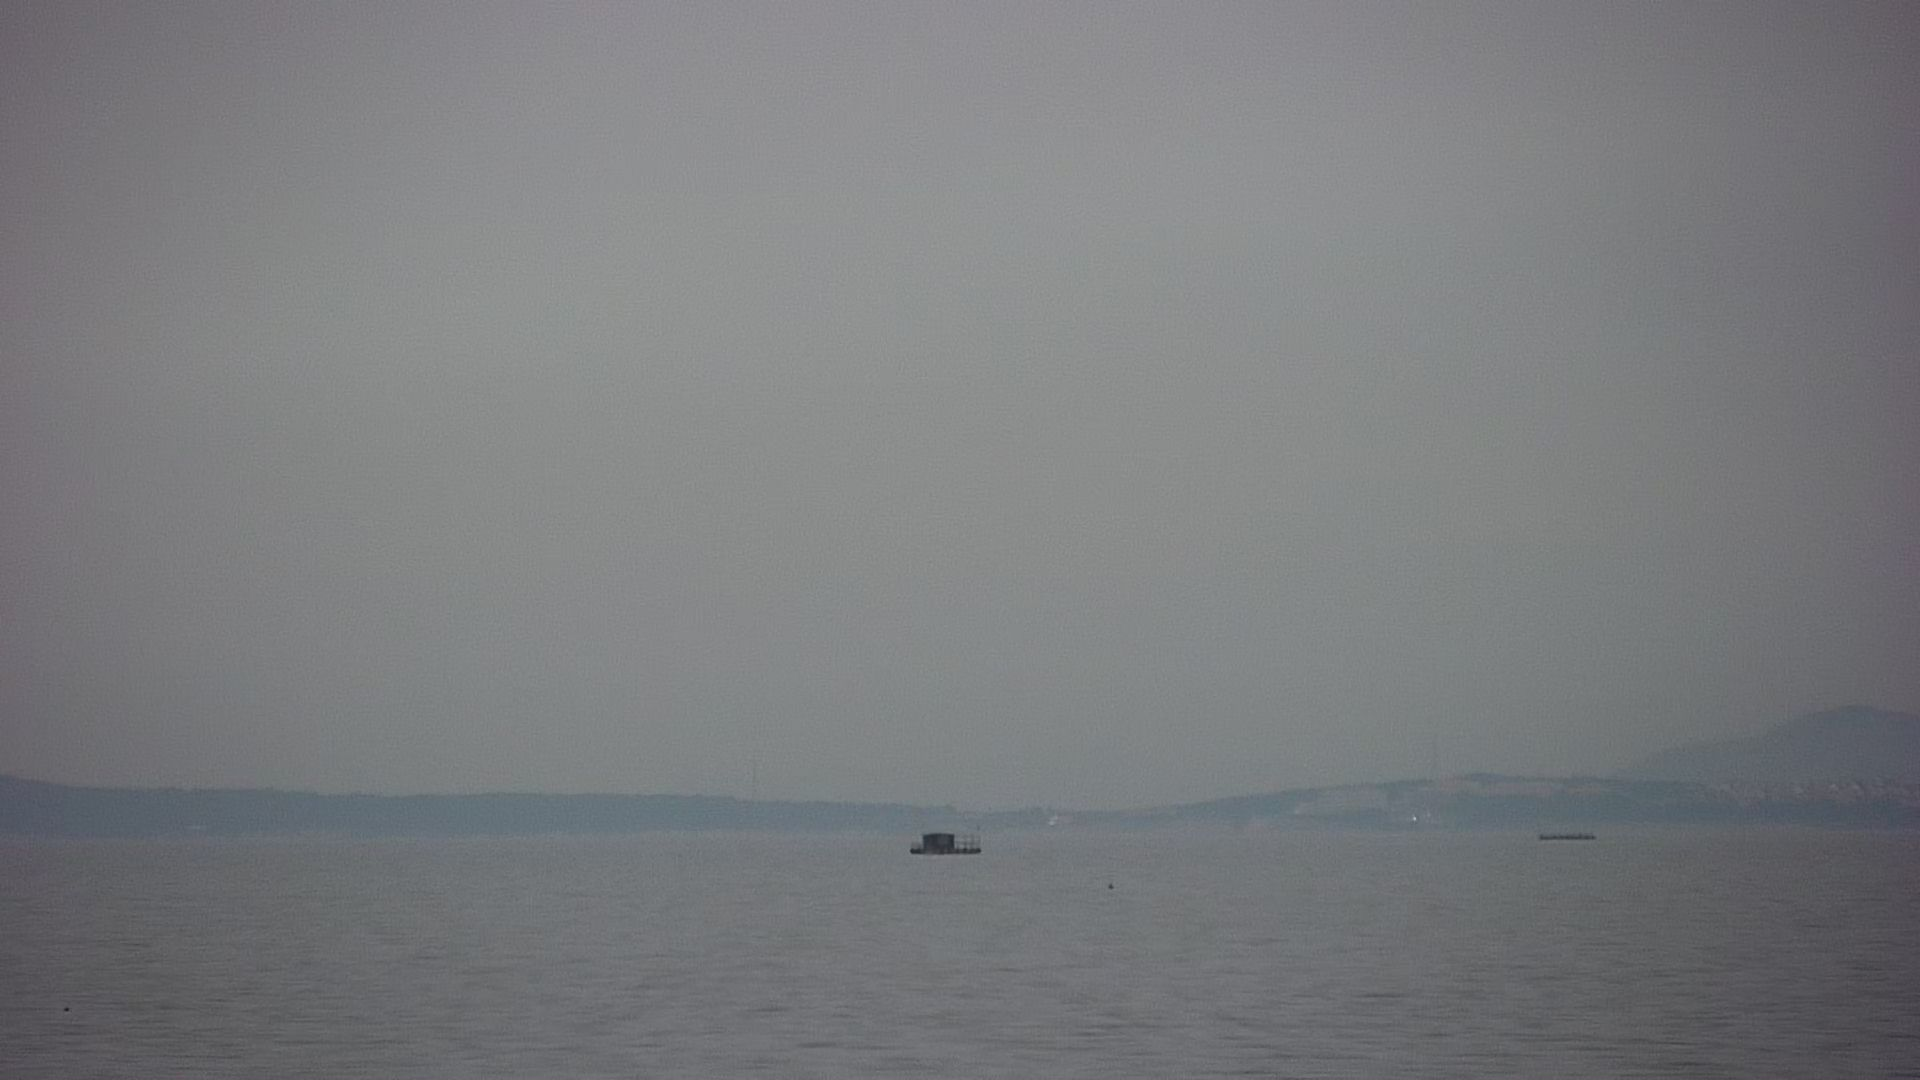platform: (905, 824, 993, 862)
